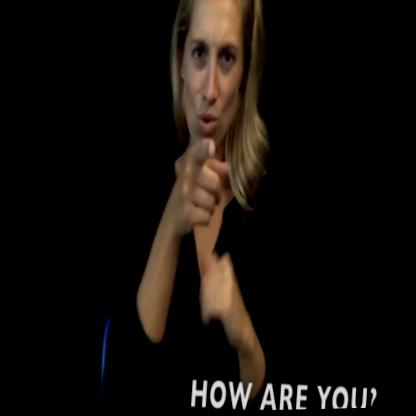HowAreYou: (130, 117, 292, 376)
